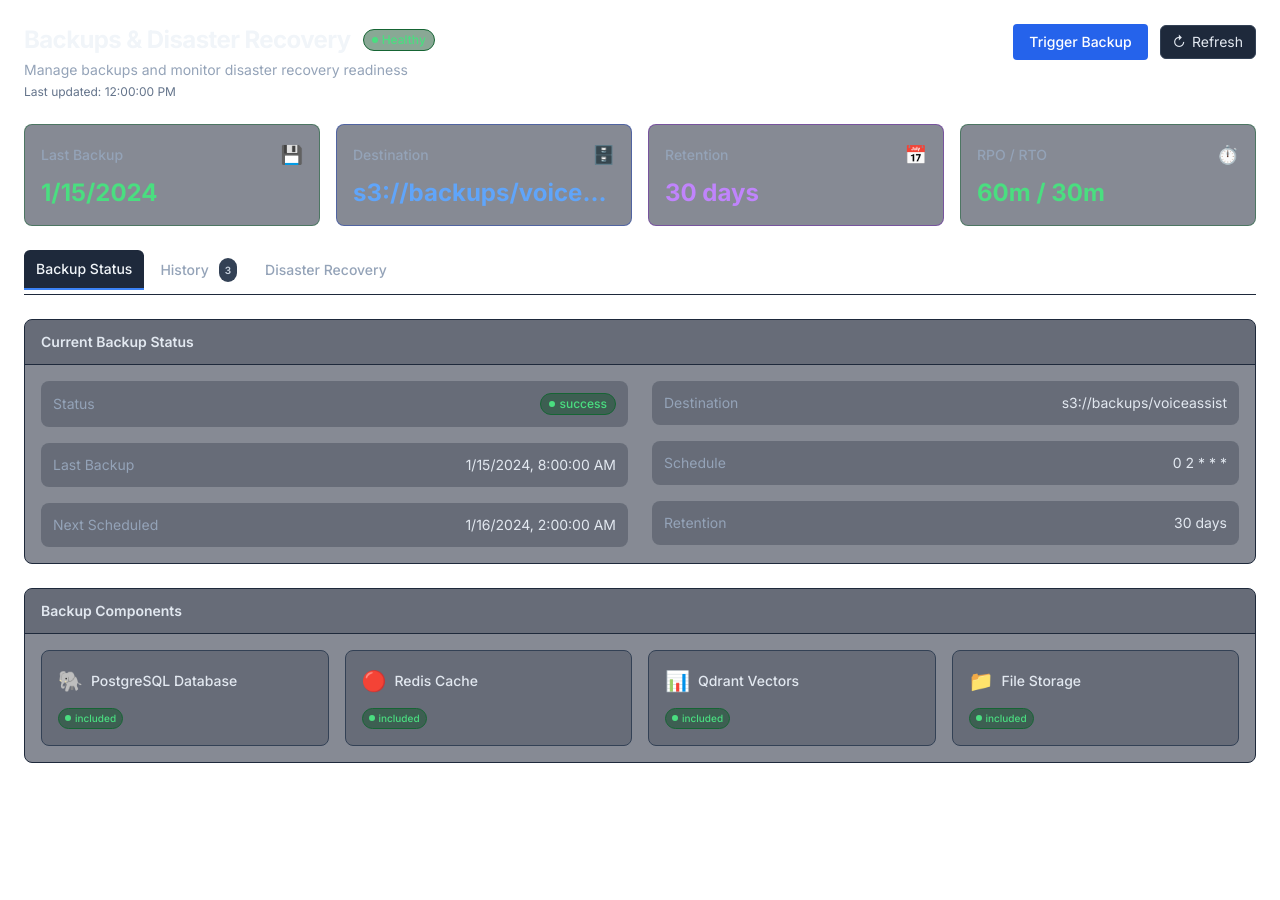
Test: BackupsPage › history tab › should switch to history tab
The width and height of the screenshot is (1280, 900).
Click the text "History" at (185, 270), box [160,260,209,280]
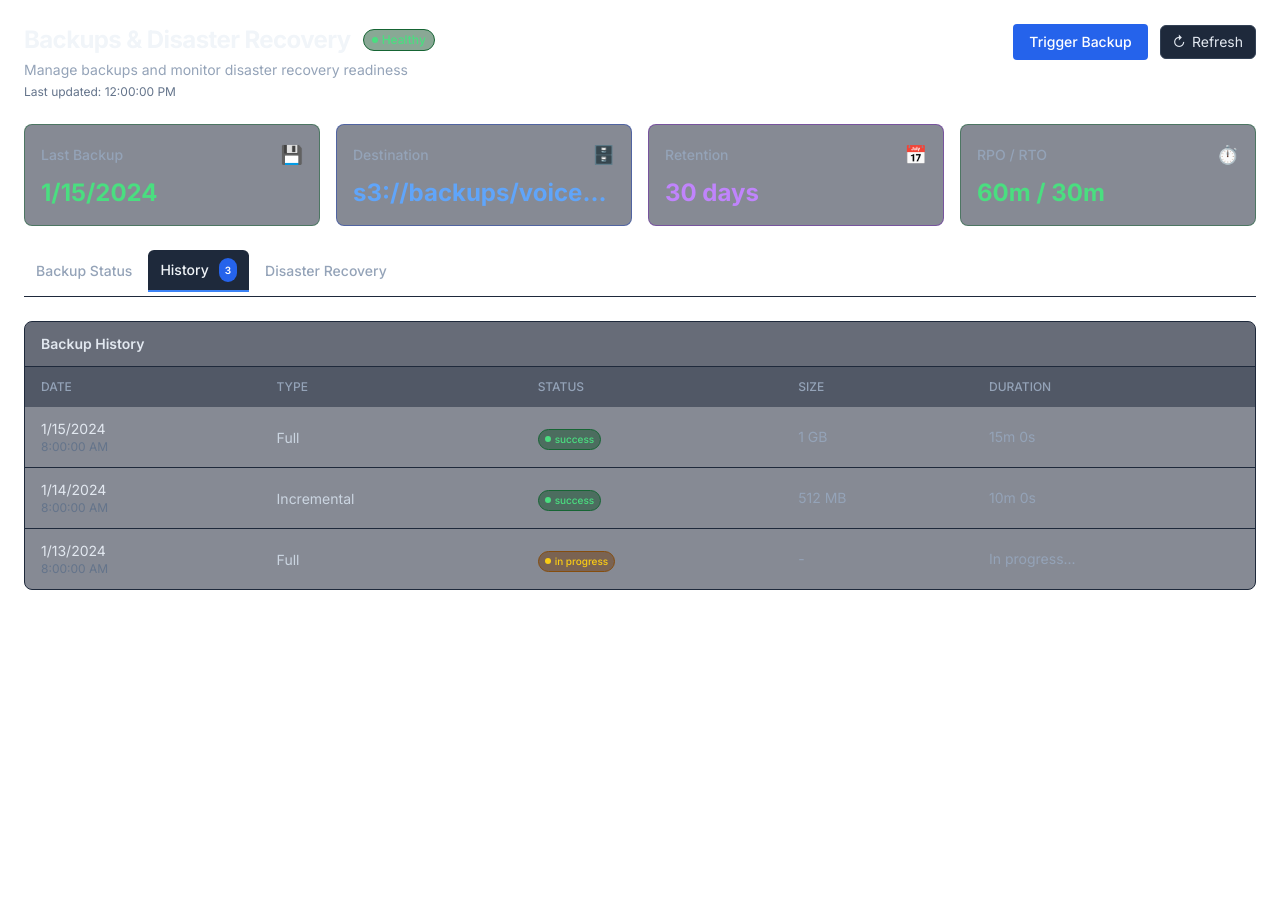
expect the heading "Backup History" is shown: met, box [41,334,144,354]
